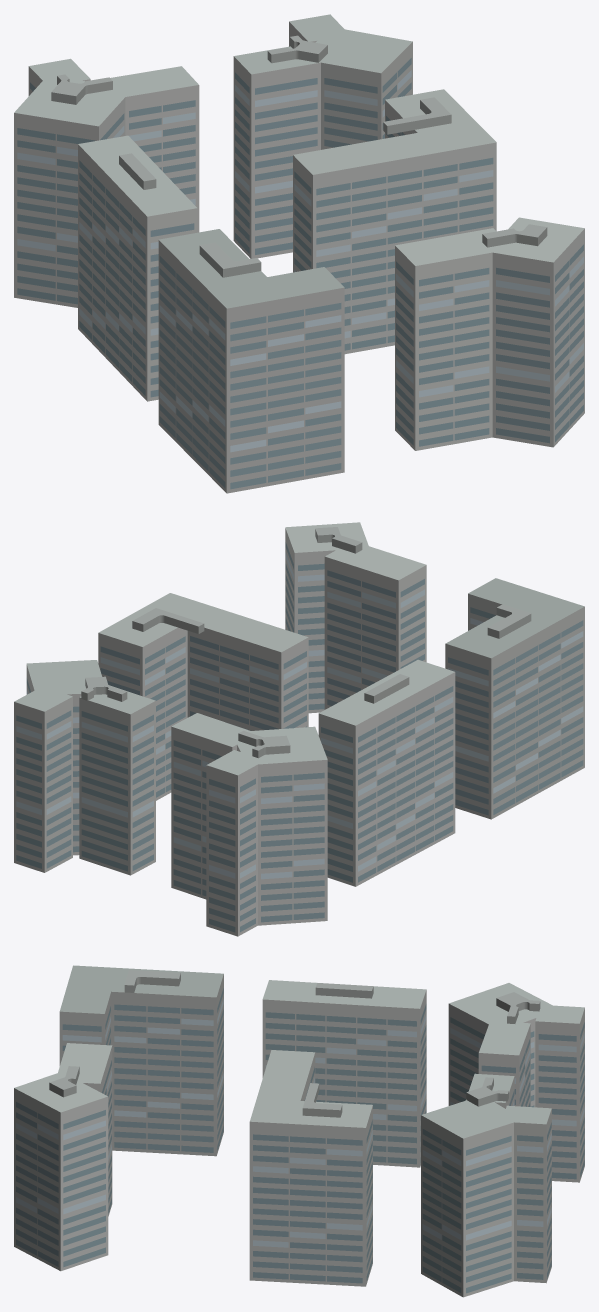
File: apt-a10027403.glb
3 views of the same model, one above another, from view 1: azimuth 30°, elevation 25°; view 2: azimuth 150°, elevation 25°; view 3: azimuth 270°, elevation 25° (orthographic). The views are drawn at different scales.
Visible parts, largest first — view 1: apt-a10027403; view 2: apt-a10027403; view 3: apt-a10027403.
Part boxes in pixels (box(x1,y1,x2,y2)): apt-a10027403: box(14, 14, 584, 493); apt-a10027403: box(14, 522, 584, 936); apt-a10027403: box(14, 965, 584, 1297).
Bounding box in the file's own units: 107 × 48 × 149.
